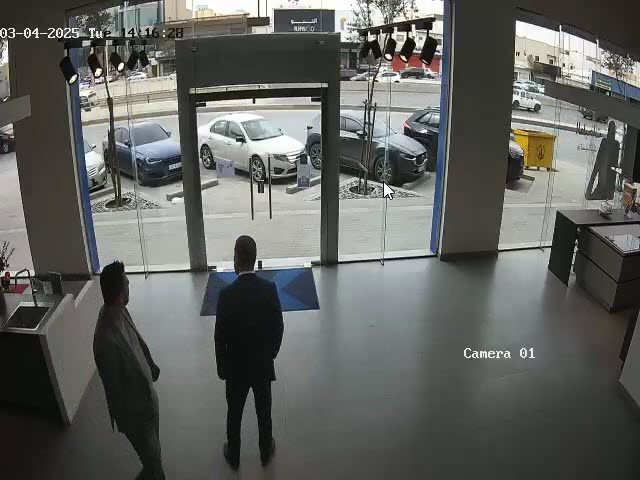employee: (213, 235, 285, 471)
male: (92, 260, 167, 480)
